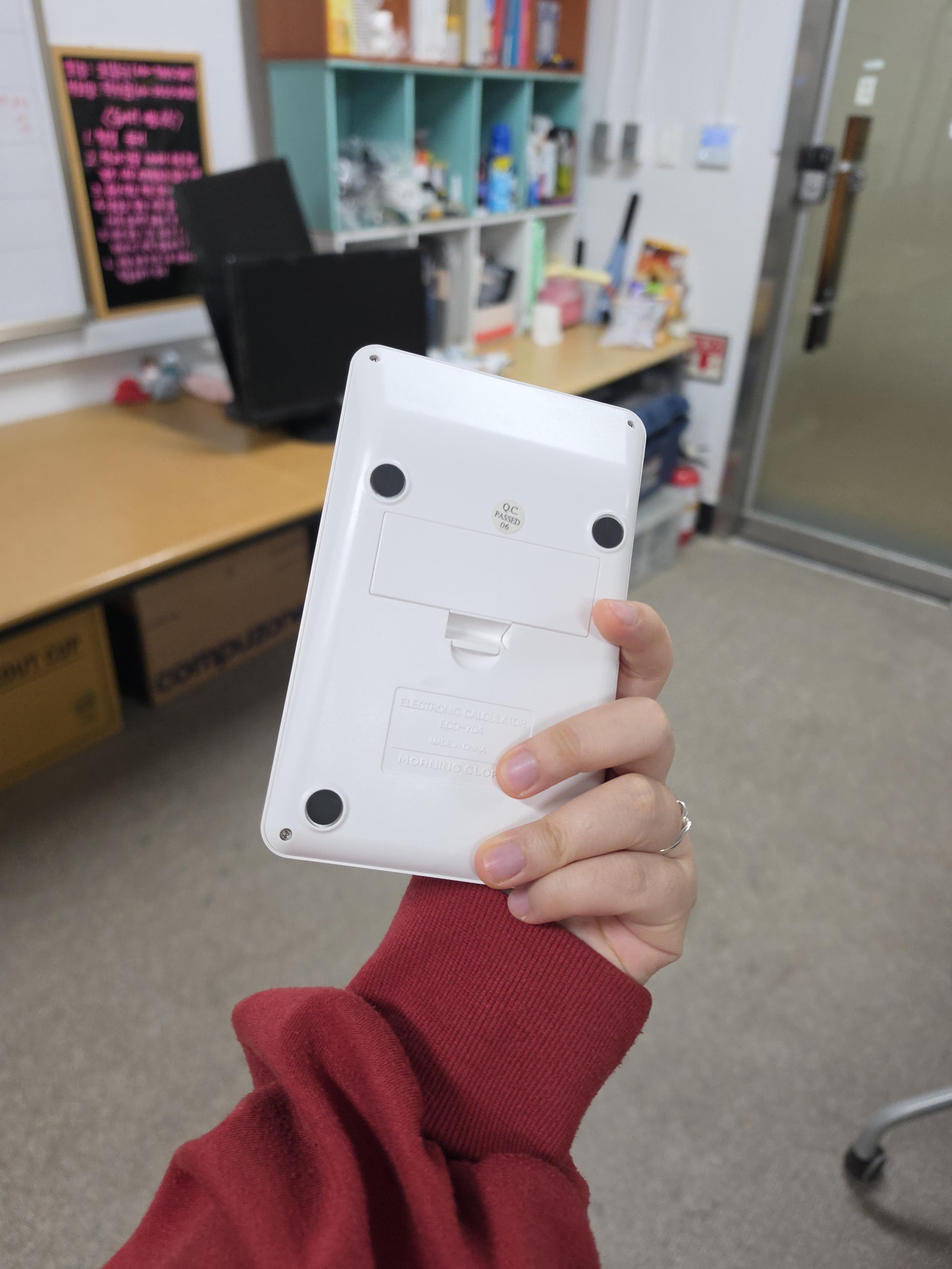calculator: (261, 343, 646, 885)
